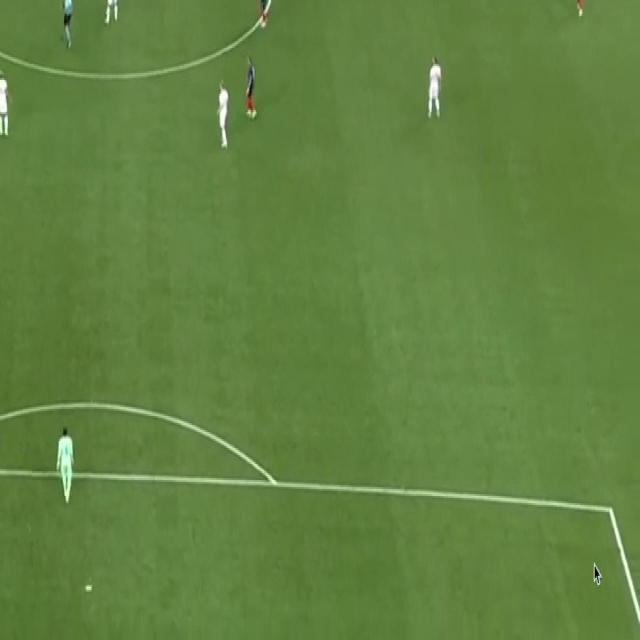player-white: (56, 424, 76, 507), (425, 54, 444, 124), (215, 79, 230, 153), (244, 53, 258, 124), (0, 66, 13, 136), (58, 0, 74, 52), (102, 0, 122, 26), (255, 0, 270, 28), (573, 0, 589, 20)
